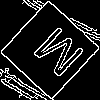M: (25, 25, 87, 87)
